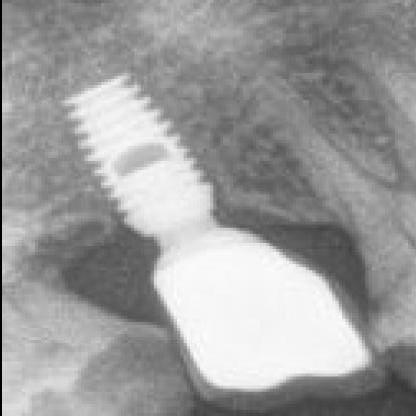Bicon: (44, 70, 234, 232)
